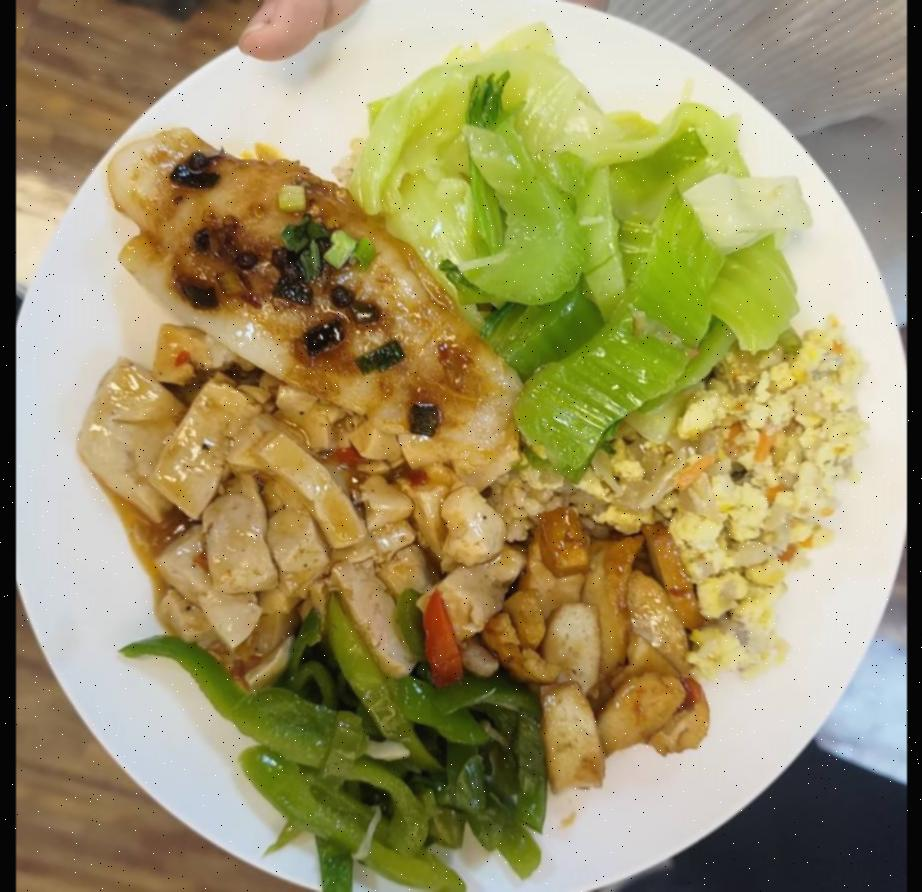braised fish fillet: (112, 106, 527, 480)
plate: (30, 7, 890, 892)
side dish: (371, 56, 795, 432), (88, 394, 511, 673), (573, 316, 874, 646), (204, 628, 564, 889), (492, 503, 708, 784)
